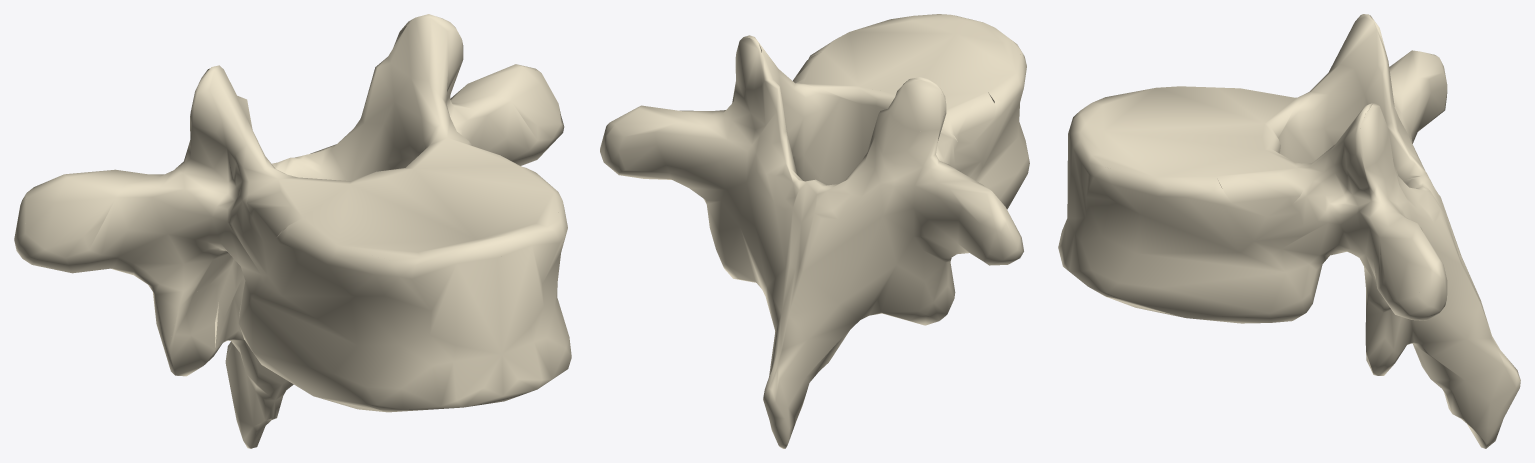
File: esqueleto-vertebra-t7.glb
3 views of the same model, side by side, from view 1: azimuth 30°, elevation 25°; view 2: azimuth 150°, elevation 25°; view 3: azimuth 270°, elevation 25° (orthographic). The views are drawn at different scales.
Visible parts, largest first — view 1: Vertebra T7; view 2: Vertebra T7; view 3: Vertebra T7.
Boxes of the visible parts, <box> form: Vertebra T7: <box>14,14,571,448</box>; Vertebra T7: <box>600,14,1029,448</box>; Vertebra T7: <box>1058,14,1520,448</box>.
Size of the model in its own units: 0.0766 by 0.0618 by 0.0666.
